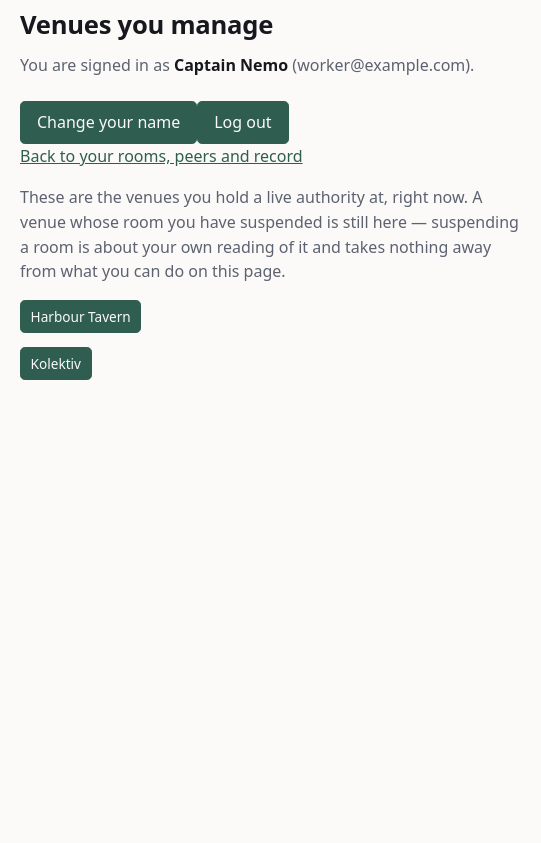
Test: the venue's people › says so when the list cannot be read, and offers to ask again
The width and height of the screenshot is (541, 843).
What coordinates should you click on to do the following:
click the button "Harbour Tavern"
I would click on:
 (81, 317)
Its box is [20,300,141,333].
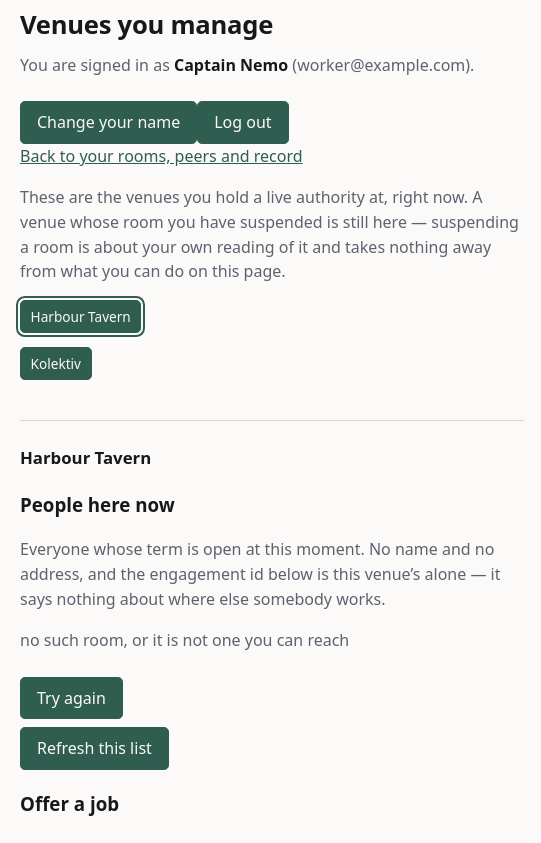
expect the text "no such room, or it is not one you can reach" is shown: met, box [20,629,349,651]
